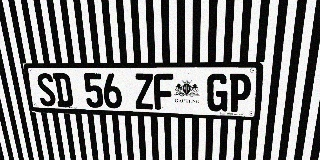5: (83, 73, 104, 108)
6: (102, 73, 123, 109)
D: (52, 73, 74, 107)
F: (153, 73, 174, 110)
G: (206, 74, 229, 112)
P: (228, 74, 252, 112)
S: (35, 73, 57, 106)
Z: (133, 73, 154, 109)
